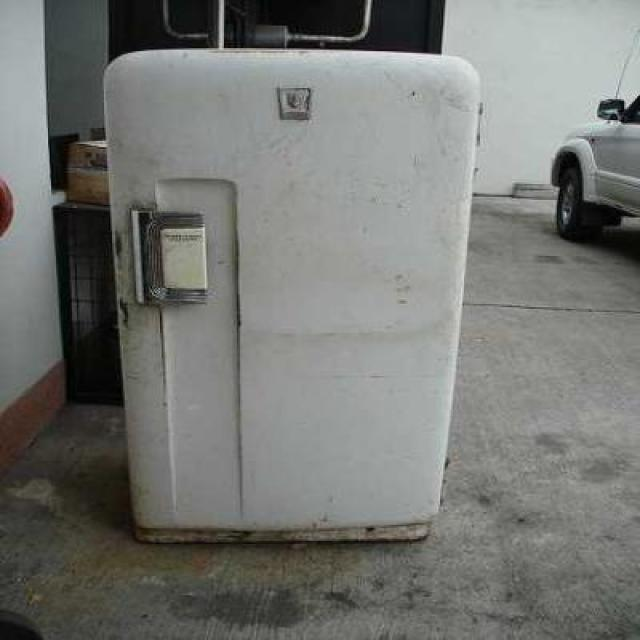refrigerator: (106, 49, 482, 542)
